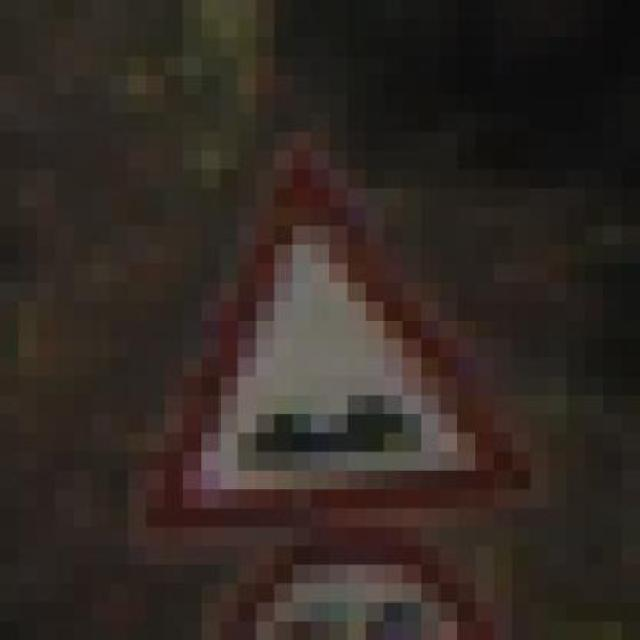Uneven Road: (128, 112, 530, 546)
